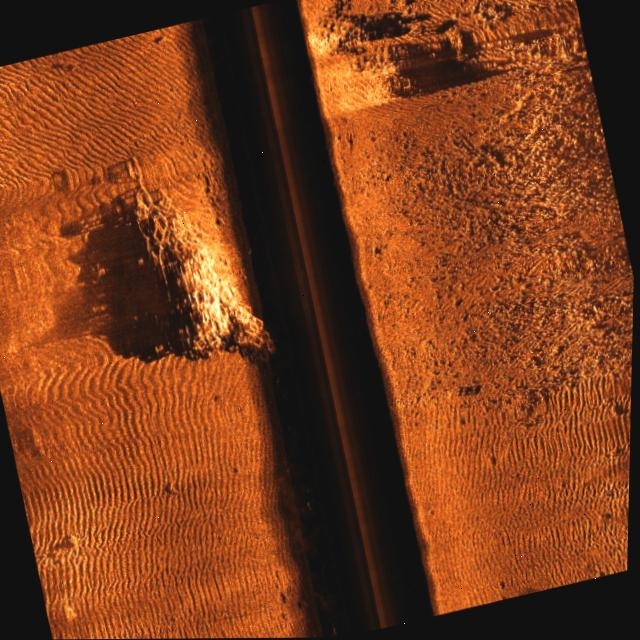artificial reef: (82, 156, 282, 408)
